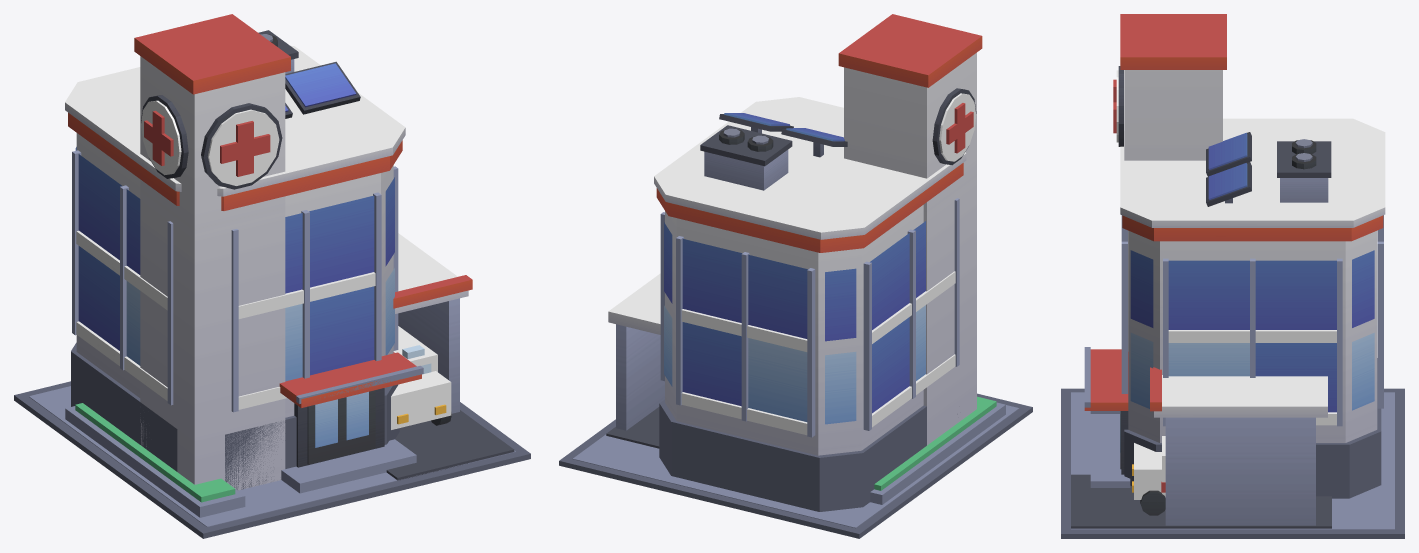
Rendered from clinic_1x1.glb.
The picture shows the model from 3 angles, left to right: view 1: azimuth 30°, elevation 25°; view 2: azimuth 150°, elevation 25°; view 3: azimuth 270°, elevation 25°; orthographic projection. The views are drawn at different scales.
Parts seen in each view (by area): view 1: clinic_1x1; view 2: clinic_1x1; view 3: clinic_1x1.
Boxes of the visible parts, box(x1,y1,x2,y2) form: clinic_1x1: box(14, 14, 530, 538); clinic_1x1: box(559, 14, 1032, 538); clinic_1x1: box(1061, 14, 1404, 538).
Bounding box in the file's own units: 1.74 × 2.17 × 1.74.
1 material, 1 textured.
